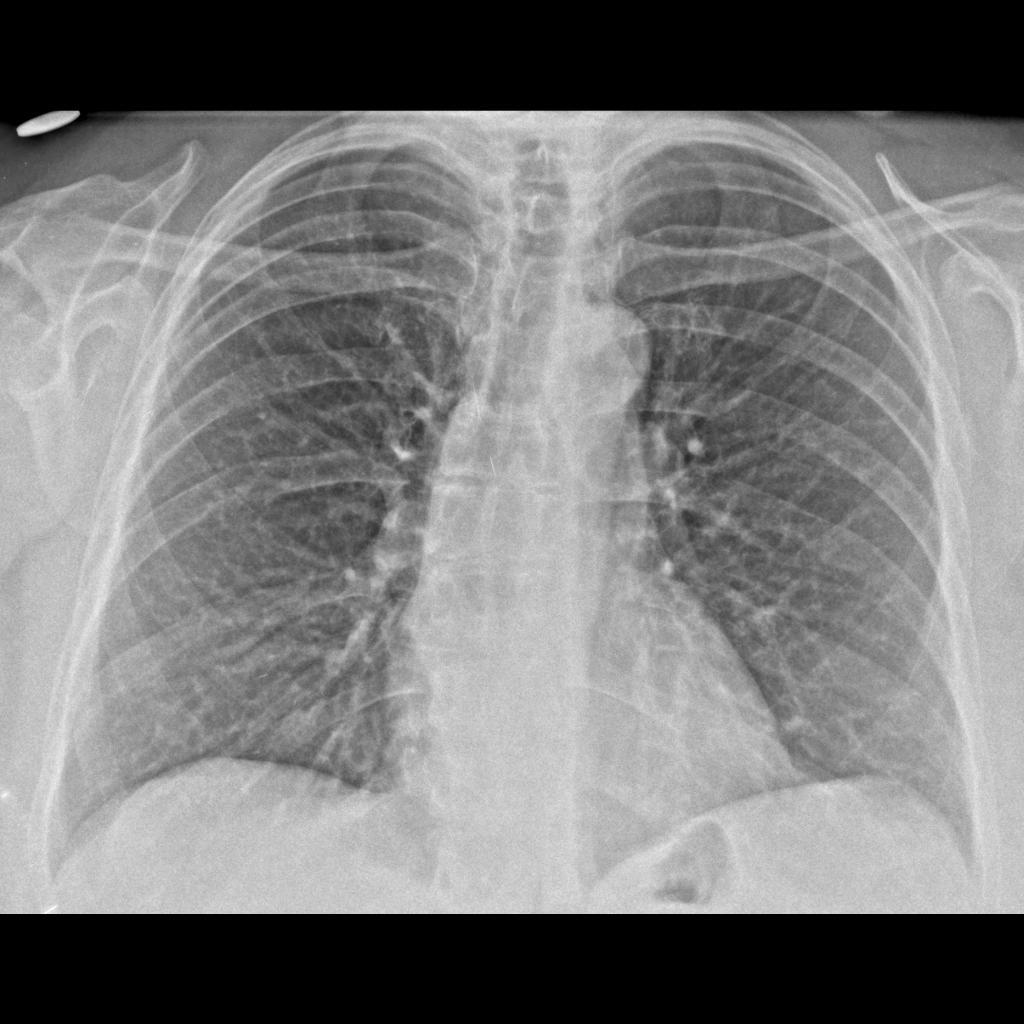Nodule: (272, 701, 319, 763)
